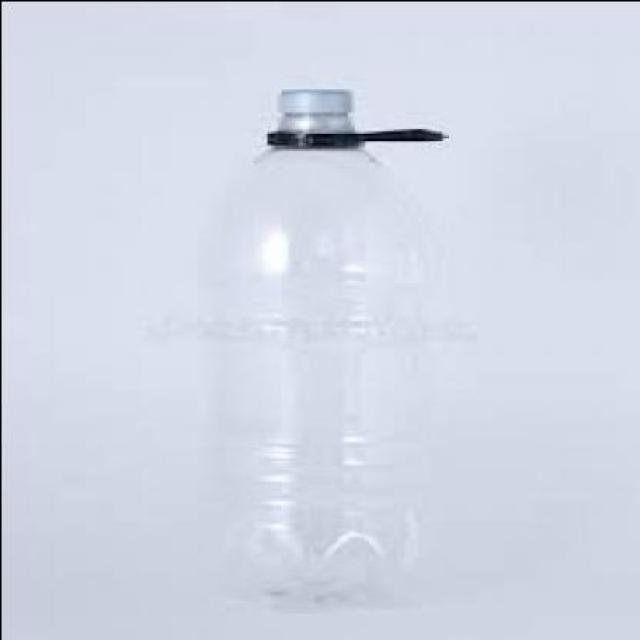PLASTIC: (192, 84, 417, 610), (256, 83, 444, 151)
